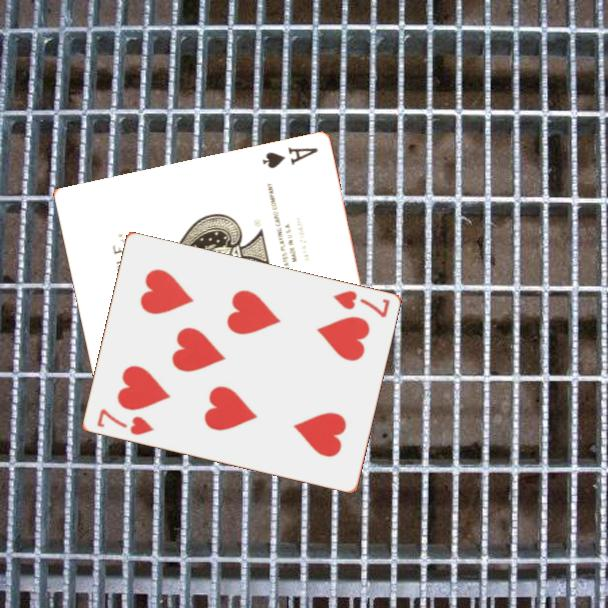h07: (329, 287, 392, 321), (93, 405, 156, 438)
s01: (259, 143, 321, 172)
